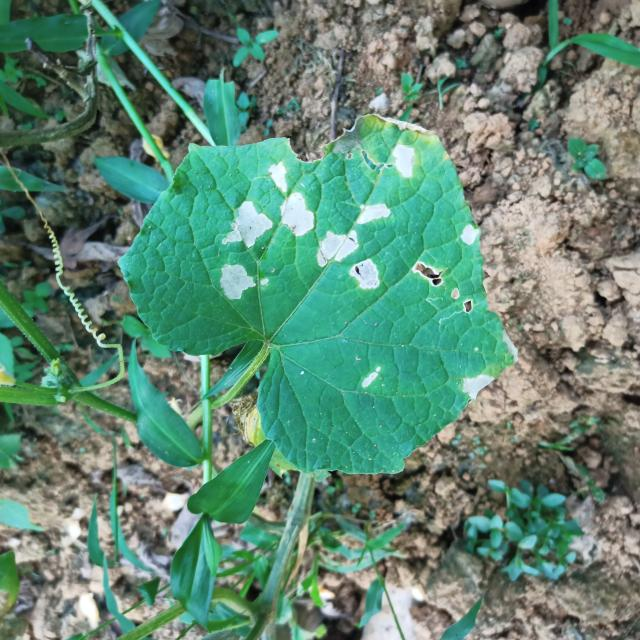disease_cucumber: (316, 230, 381, 290), (268, 162, 316, 238), (413, 261, 474, 315), (222, 200, 275, 251), (220, 262, 273, 301), (392, 143, 417, 180), (357, 202, 391, 228), (463, 373, 494, 399), (361, 366, 383, 390), (460, 223, 481, 246)
